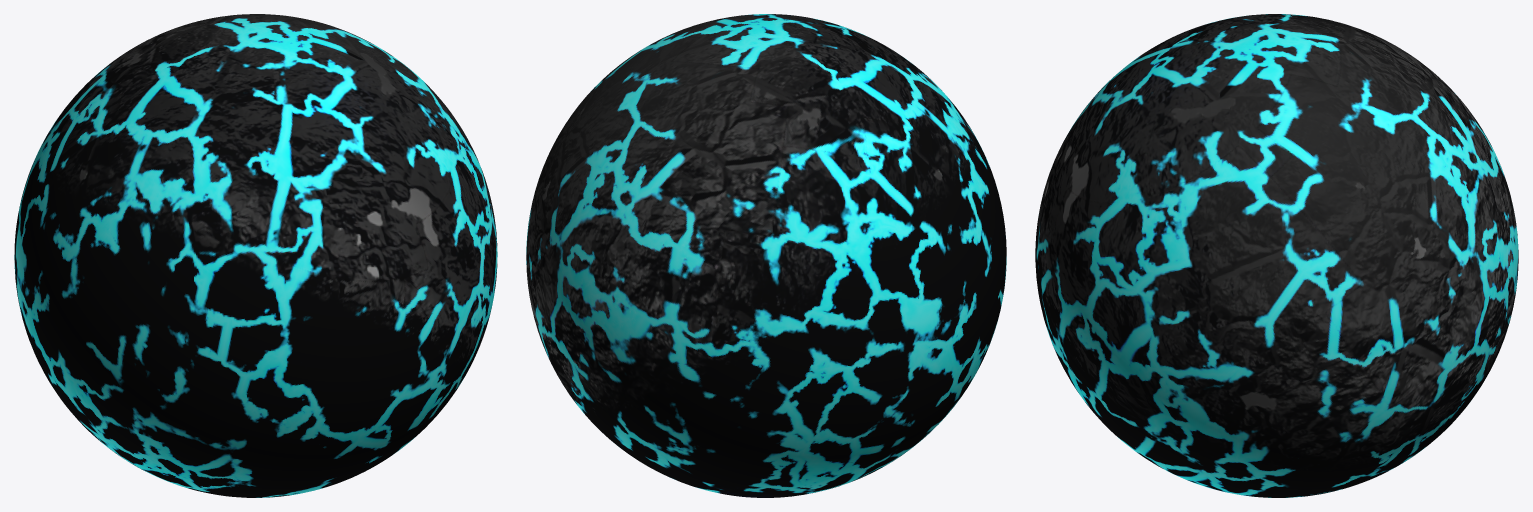
The model's file is blueball.fbx.
3 views of the same model, side by side, from view 1: azimuth 30°, elevation 25°; view 2: azimuth 150°, elevation 25°; view 3: azimuth 270°, elevation 25° (orthographic).
Parts seen in each view (by area): view 1: Sphere; view 2: Sphere; view 3: Sphere.
Part boxes in pixels (x1,y1,x2,y2): Sphere: (14,14,497,497); Sphere: (526,14,1006,497); Sphere: (1035,14,1518,497).
Size of the model in its own units: 197 by 198 by 198.
1 material, 1 textured.
